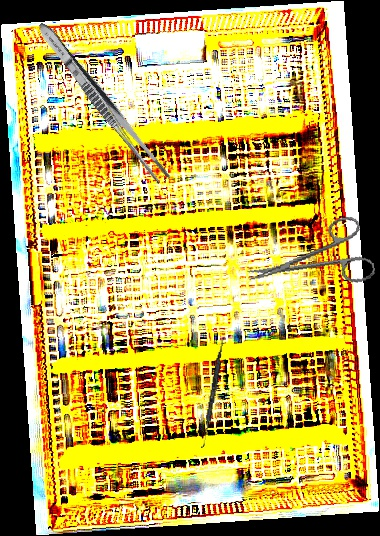Dressing Forceps: (31, 18, 175, 187)
Iris Scissors: (240, 212, 377, 307)
Spatula Surgical: (201, 337, 225, 449)
